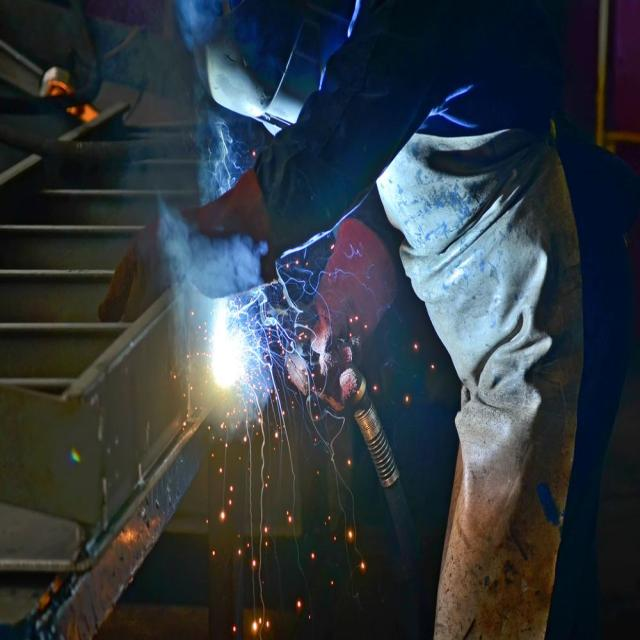welding: (208, 304, 252, 386)
